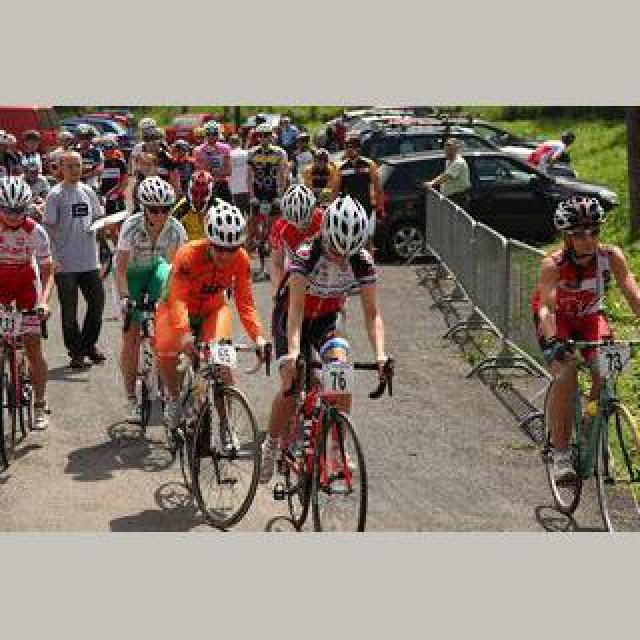MC-Bike: (528, 188, 640, 510), (158, 192, 268, 490), (296, 164, 390, 392), (112, 178, 188, 426), (44, 152, 110, 370), (0, 180, 56, 436), (266, 166, 324, 376), (336, 134, 384, 234), (422, 138, 474, 200)
Person: (532, 334, 640, 524), (256, 344, 364, 530), (164, 334, 260, 528)
